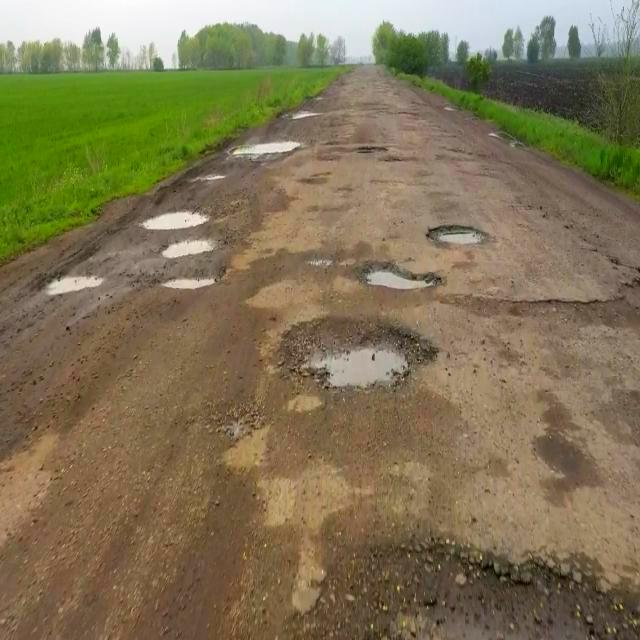Pothole: (292, 542, 628, 640), (260, 320, 454, 393), (121, 206, 239, 284), (26, 264, 106, 334), (342, 123, 425, 181), (340, 270, 460, 296), (202, 140, 312, 168), (412, 216, 492, 248), (276, 88, 326, 130)
